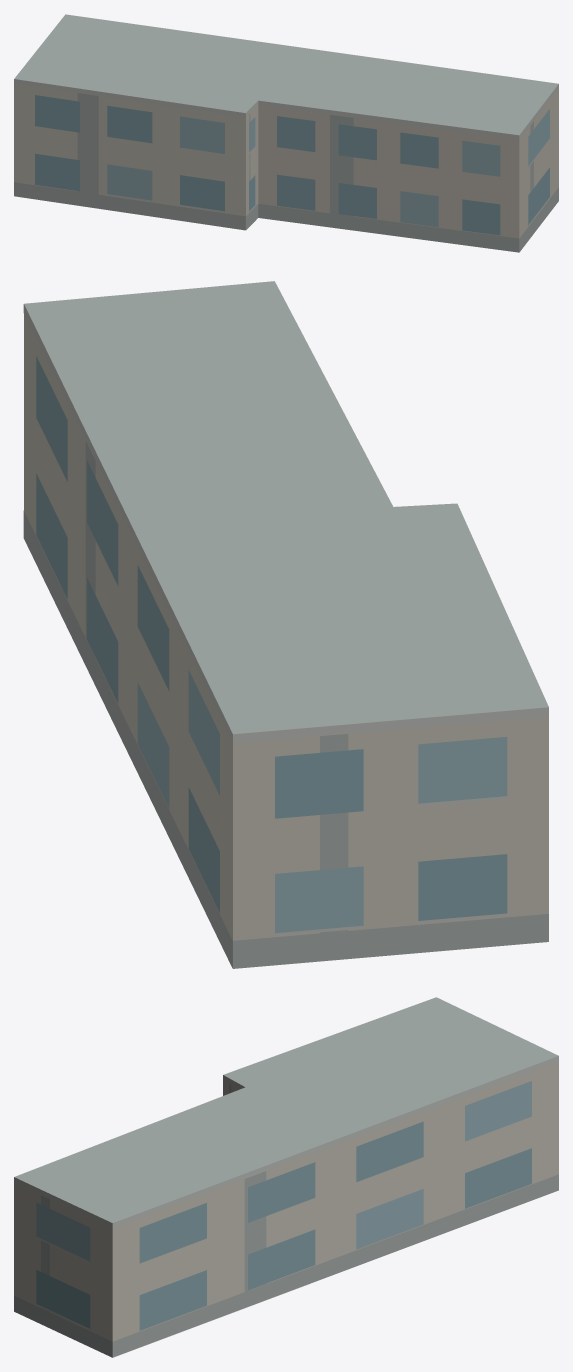
Rendered from survey-upis-33046984.glb.
3 views of the same model, one above another, from view 1: azimuth 30°, elevation 25°; view 2: azimuth 150°, elevation 25°; view 3: azimuth 270°, elevation 25° (orthographic). The views are drawn at different scales.
Parts seen in each view (by area): view 1: survey-upis-33046984.tmp; view 2: survey-upis-33046984.tmp; view 3: survey-upis-33046984.tmp.
Part boxes in pixels (<box>): survey-upis-33046984.tmp: <box>14,14,558,252</box>; survey-upis-33046984.tmp: <box>23,281,548,968</box>; survey-upis-33046984.tmp: <box>14,997,558,1357</box>.
Bounding box in the file's own units: 21.98 × 6.1 × 22.39.
